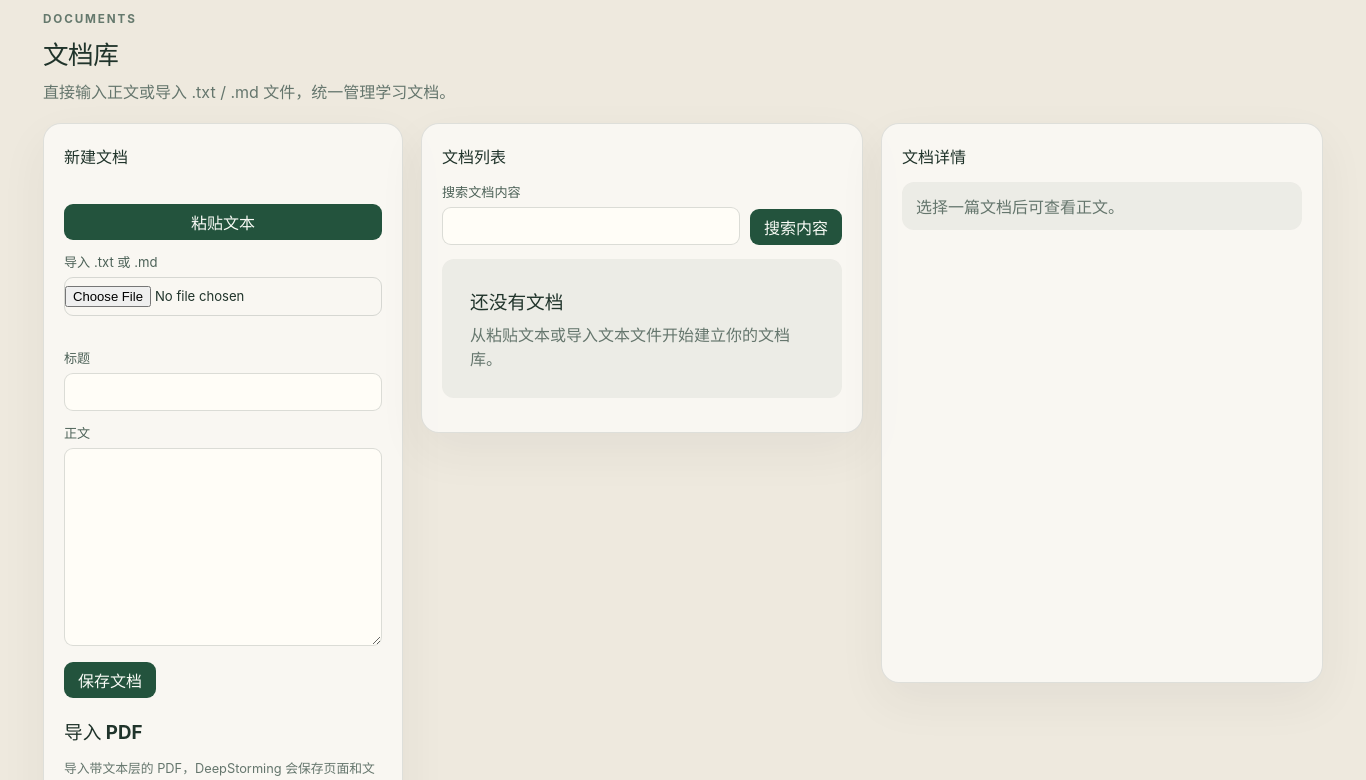
it: DocumentLibrary › preserves the draft when save fails
This screenshot has width=1366, height=780.
Type "Broken Notes" into the field labelled "标题" at (223, 392), box [64,373,382,411]
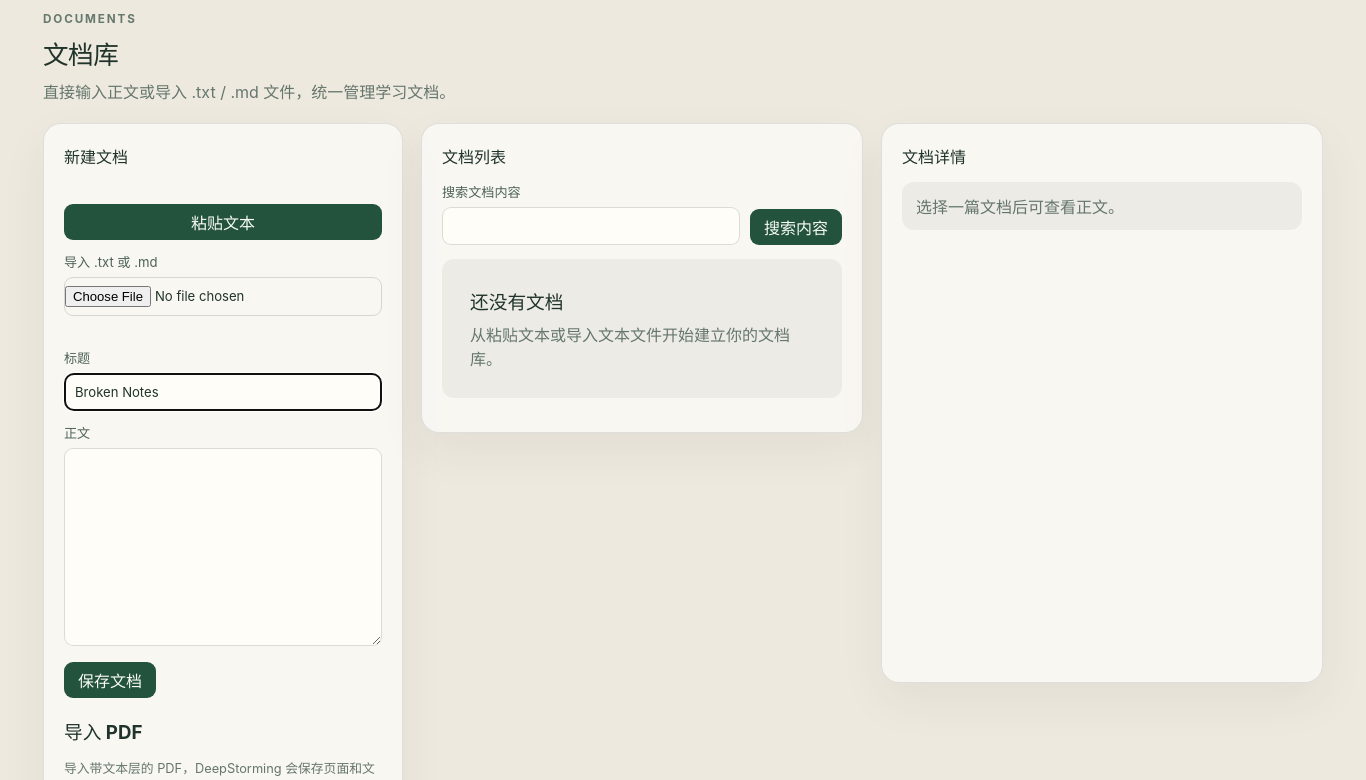
Type "draft body" into the text box labelled "正文" at (223, 547), box [64,448,382,646]
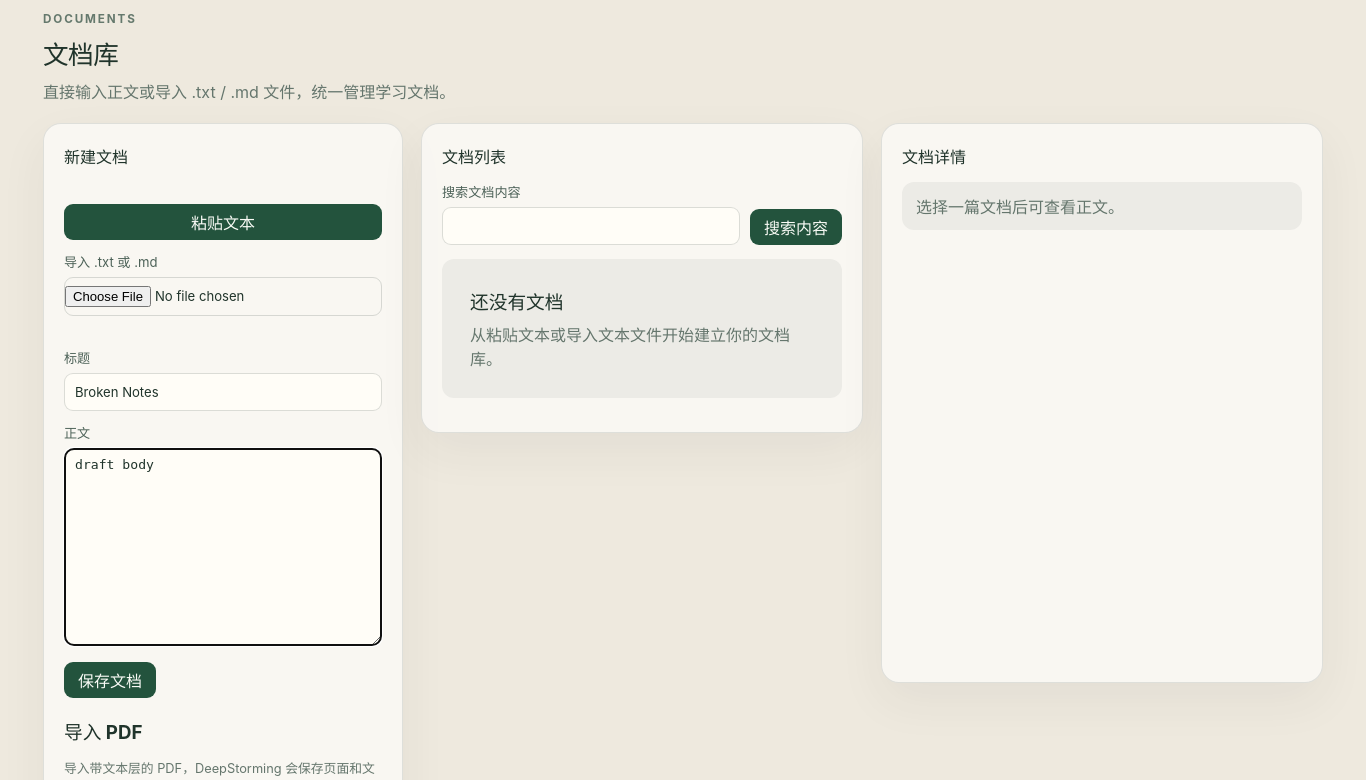
Click the button "保存文档" at (110, 680), box [64,662,156,698]
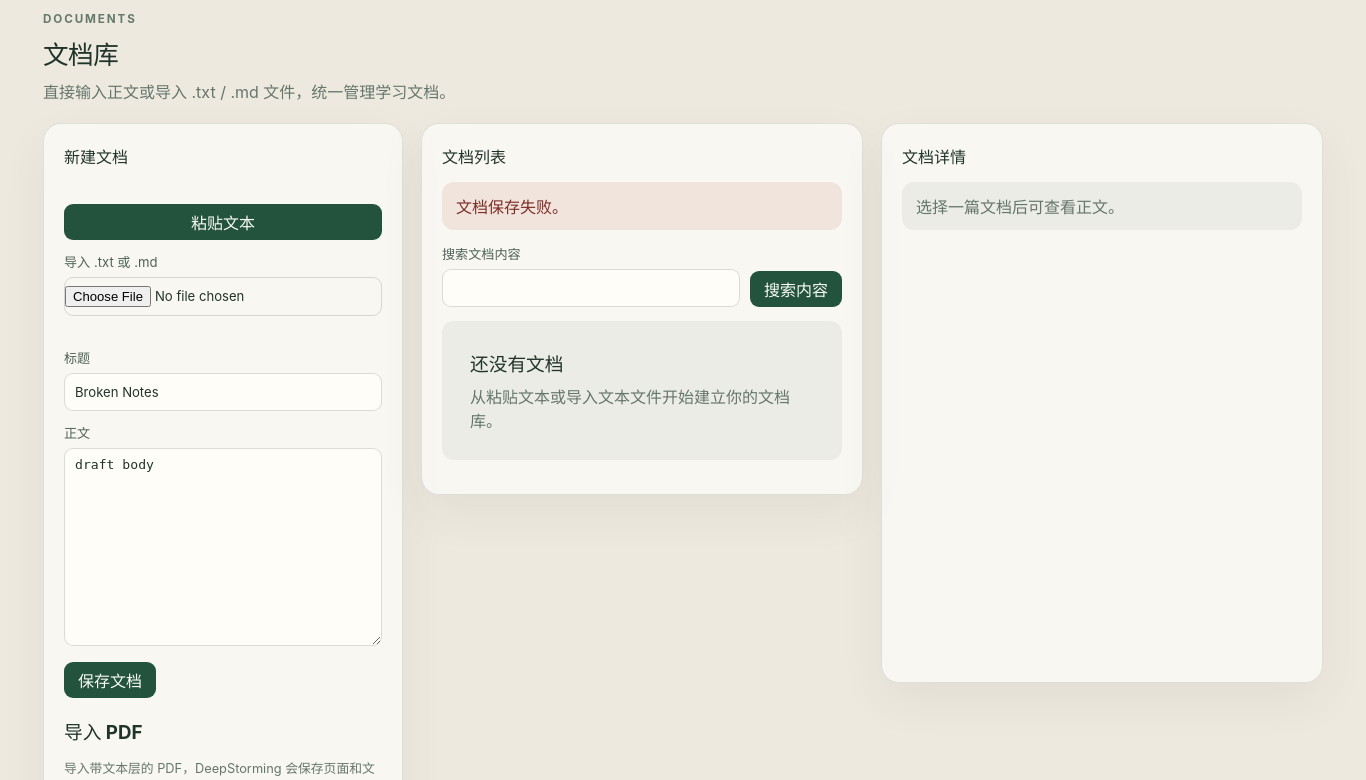
Expected: the message reads "文档保存失败。", [456,197,568,217]
